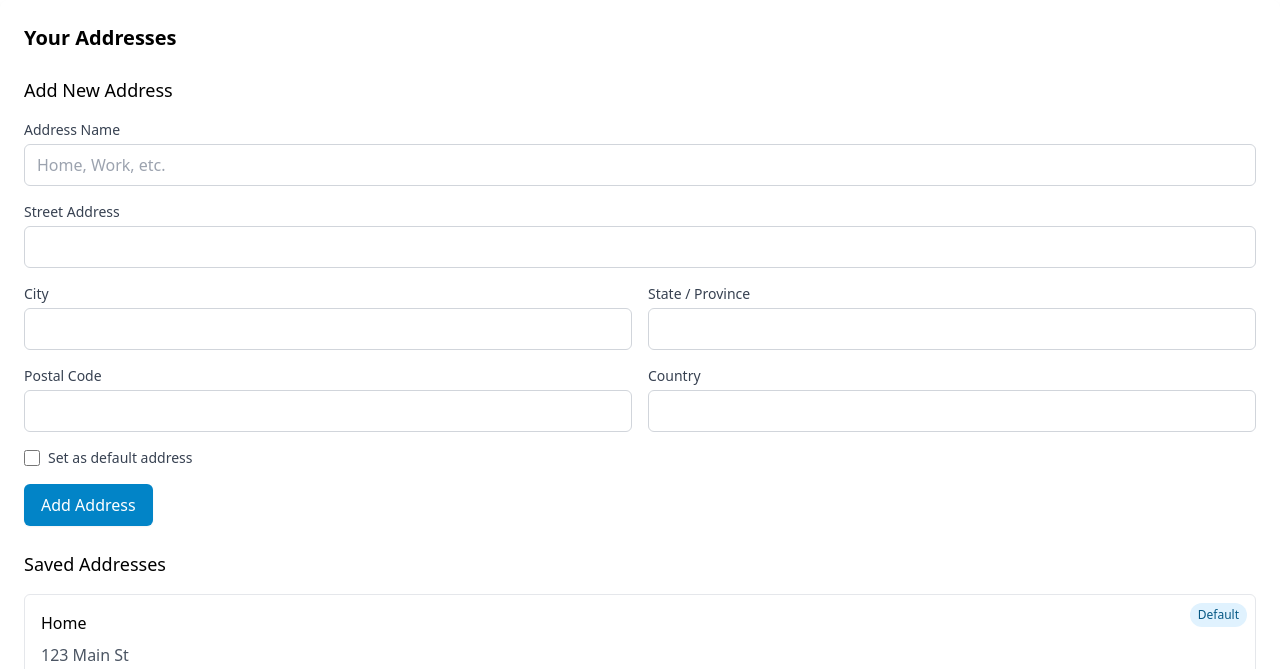
Test: AddressManager Component › handles API error response
# Fill out form
Type "New Address" into the field labelled "Address Name" at (640, 165), box [24,144,1256,186]
Type "789 New St" into the field labelled "Street Address" at (640, 247), box [24,226,1256,268]
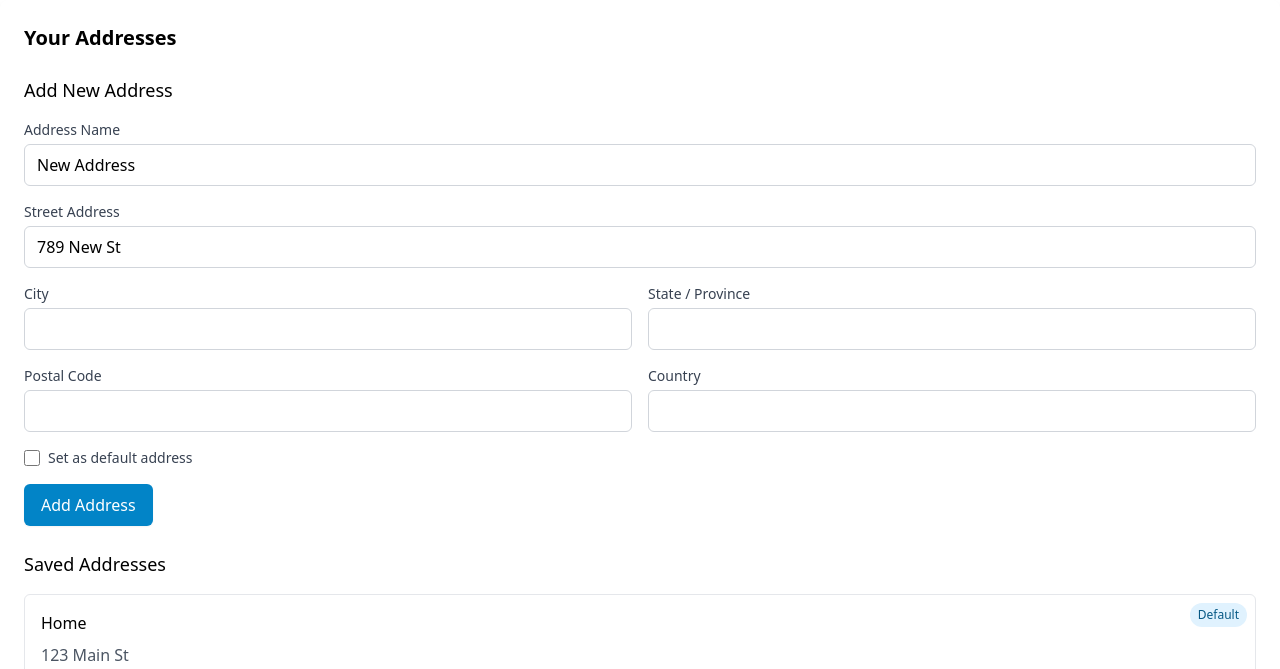
Type "Newtown" into the field labelled "City" at (328, 329), box [24,308,632,350]
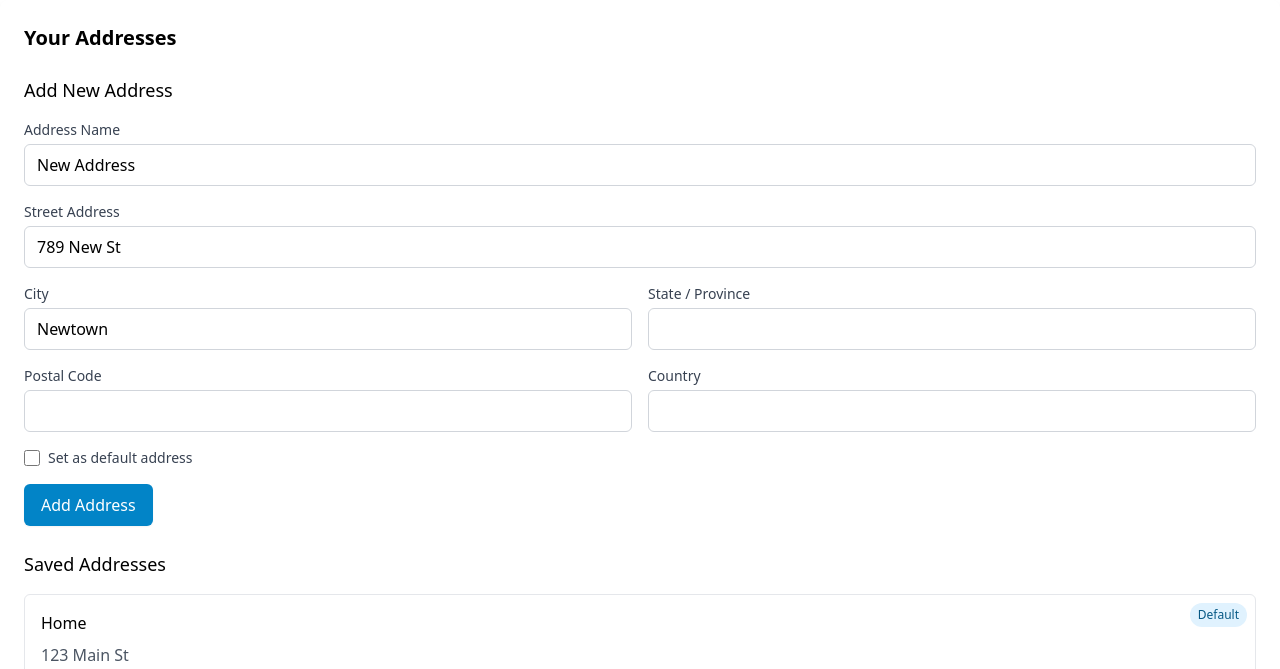
Type "NJ" into the field labelled "State / Province" at (952, 329), box [648,308,1256,350]
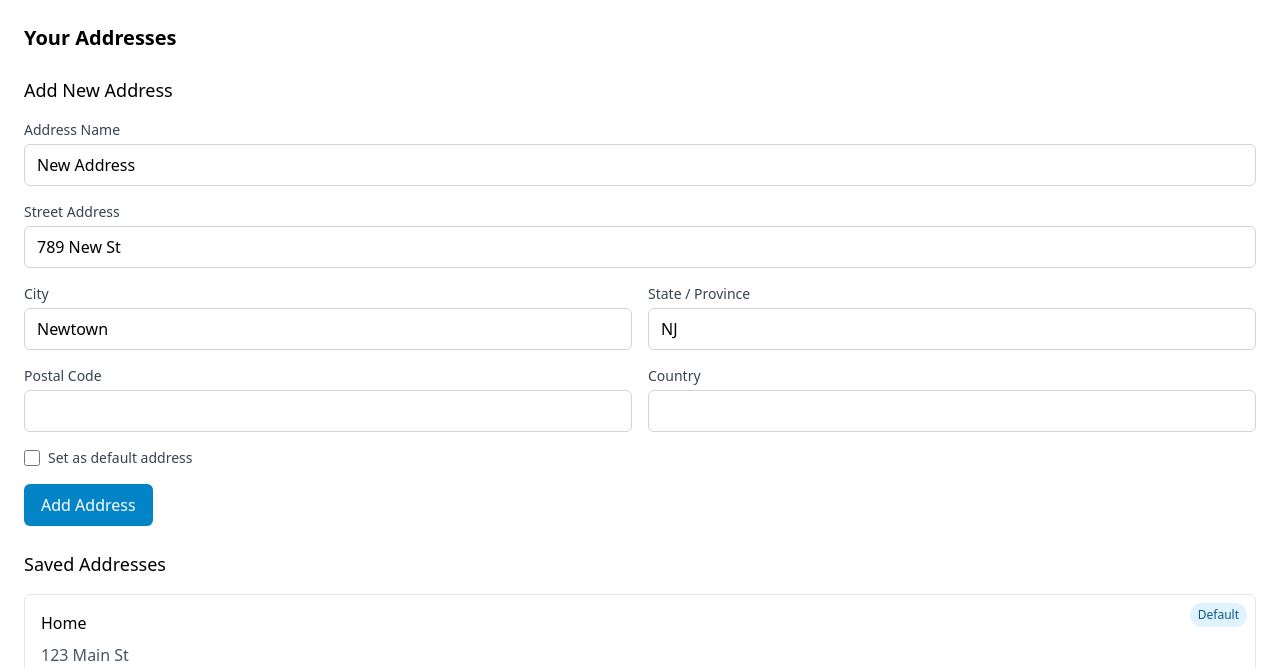
Type "54321" into the field labelled "Postal Code" at (328, 411), box [24,390,632,432]
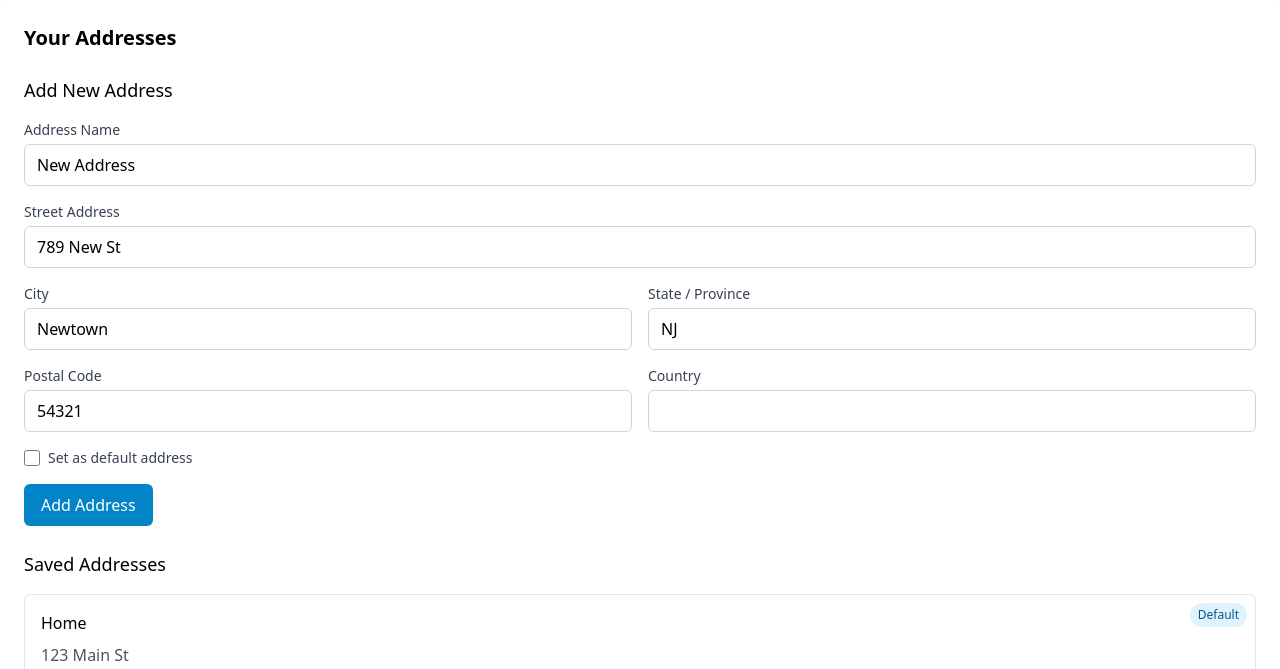
Type "USA" into the field labelled "Country" at (952, 411), box [648,390,1256,432]
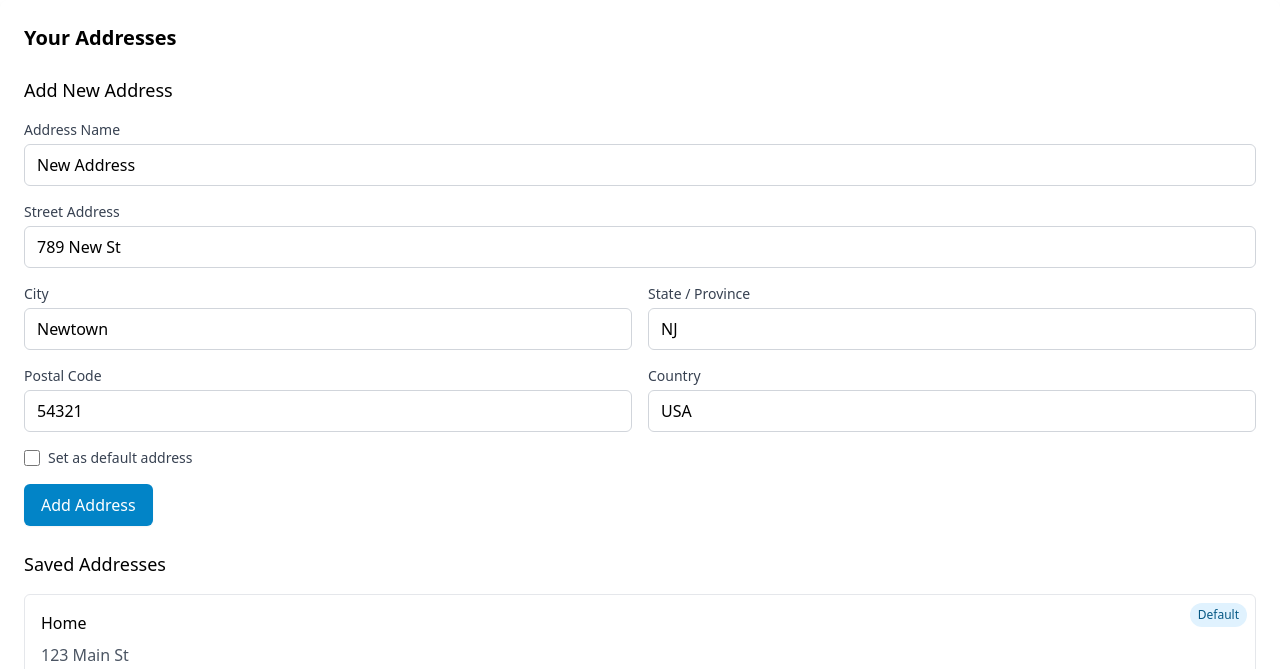
# Submit form
Click the button "Add Address" at (88, 505), box [24,484,153,526]
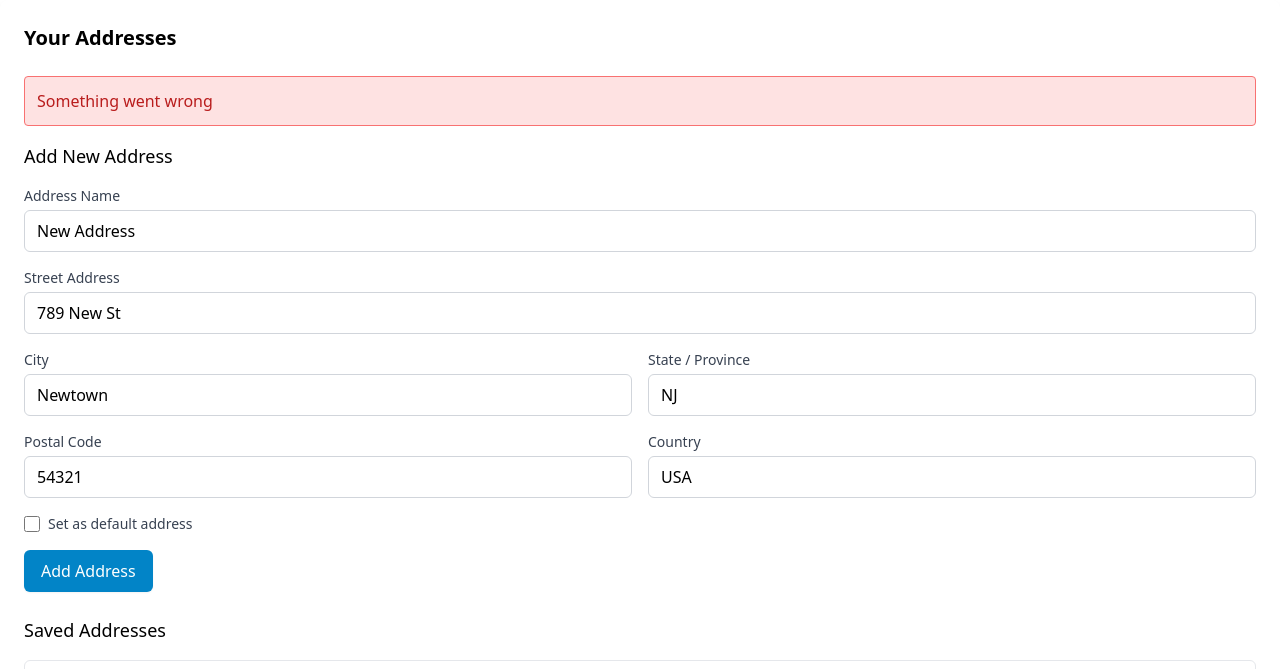
Result: the text "Something went wrong" is shown at [24,76,1256,126]
